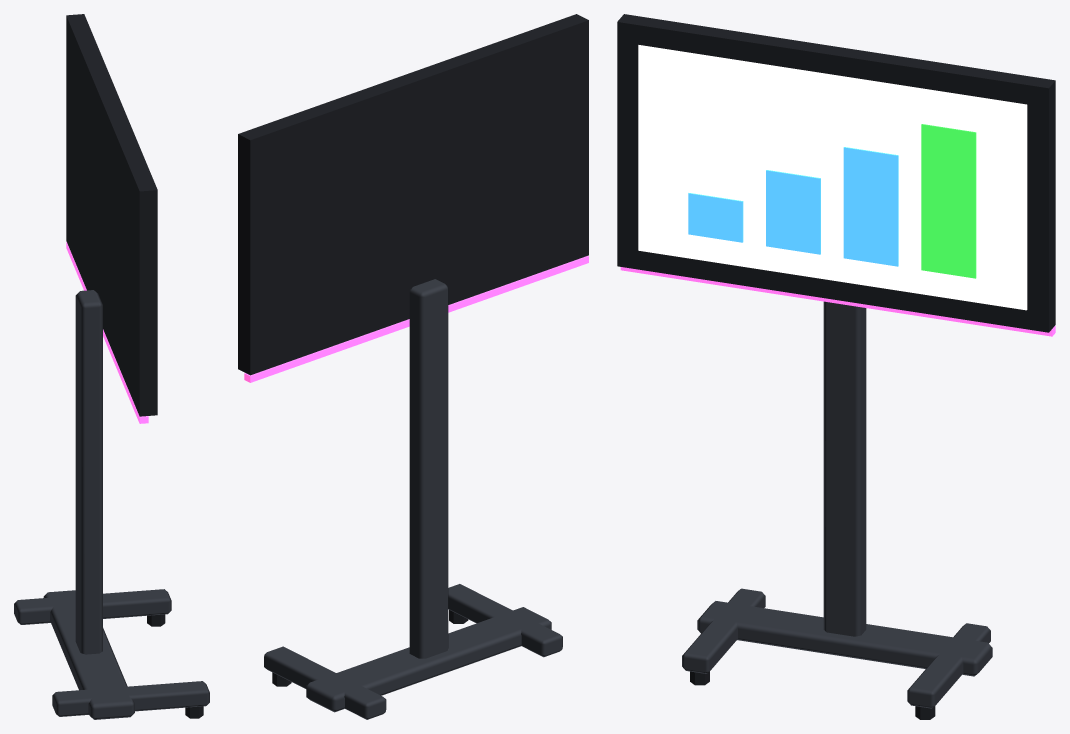
The model's file is station_special_ausstattung_1_2.glb.
3 renders of one model, left to right at view 1: azimuth 30°, elevation 25°; view 2: azimuth 150°, elevation 25°; view 3: azimuth 270°, elevation 25°, orthographic. The views are drawn at different scales.
Parts seen in each view (by area): view 1: station_special_ausstattung_1_2; view 2: station_special_ausstattung_1_2; view 3: station_special_ausstattung_1_2.
Part boxes in pixels (x1,y1,x2,y2): station_special_ausstattung_1_2: (14, 14, 209, 719); station_special_ausstattung_1_2: (238, 14, 588, 719); station_special_ausstattung_1_2: (617, 14, 1055, 719).
Size of the model in its own units: 0.4987 by 1.37 by 0.8782.
